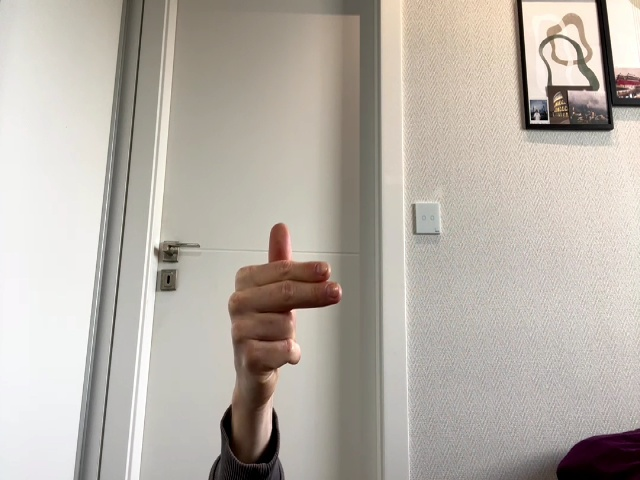N: (229, 223, 342, 369)
